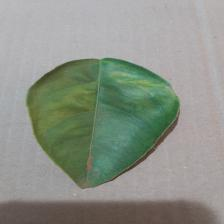greening: (16, 47, 188, 133)
